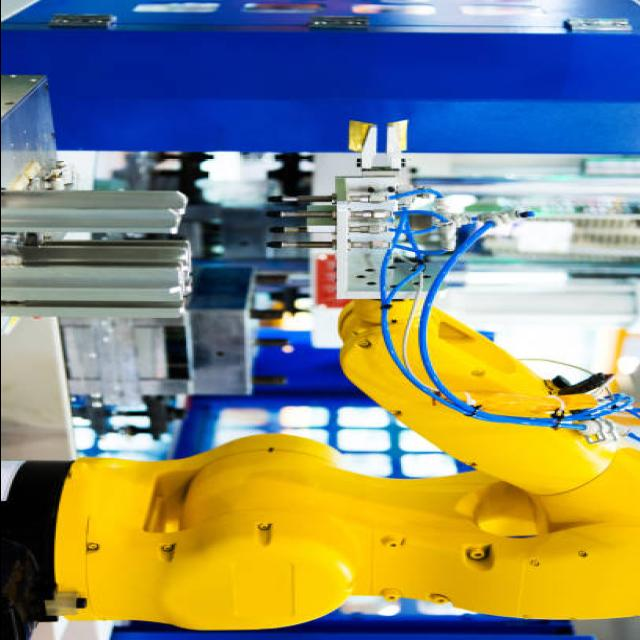Robotic-arm: (0, 301, 640, 634)
